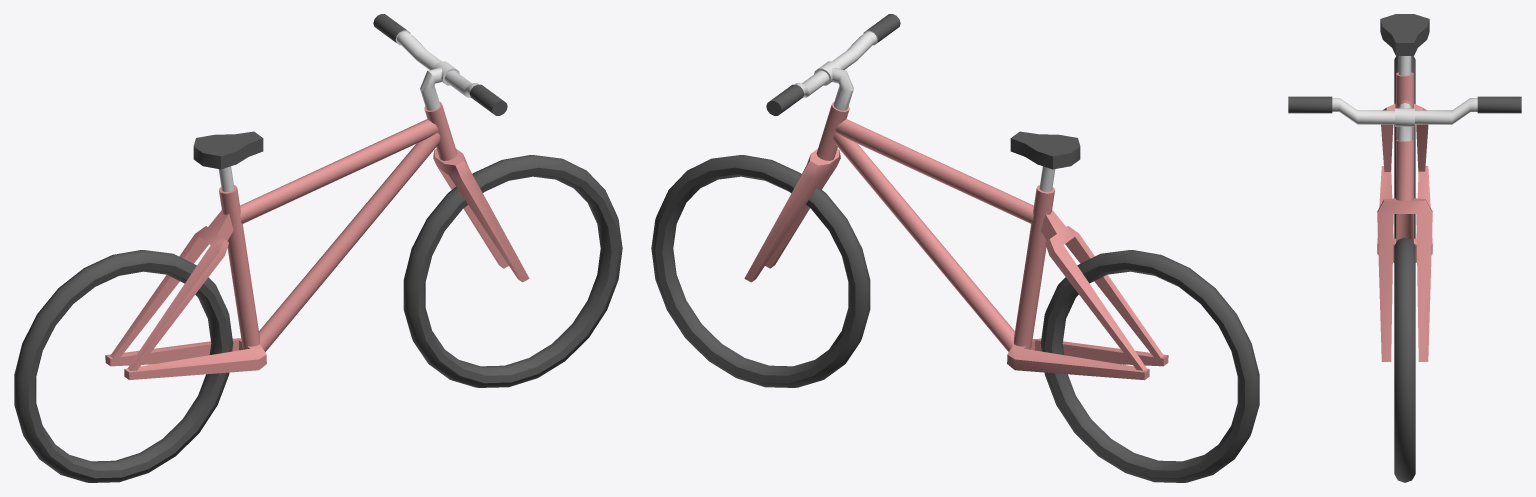
Rendered from bike.glb.
3 views of the same model, side by side, from view 1: azimuth 30°, elevation 25°; view 2: azimuth 150°, elevation 25°; view 3: azimuth 270°, elevation 25° (orthographic).
Visible parts, largest first — view 1: Torus, Torus_1, Cylinder_1, Cube_2, Cylinder_2, Cube_1, Cube, Cylinder, Cylinder_4, Cube_3, Cylinder_3; view 2: Torus, Torus_1, Cylinder_1, Cube_2, Cube_1, Cylinder_2, Cylinder, Cube, Cylinder_4, Cube_3, Cylinder_3; view 3: Torus, Cube, Cylinder_4, Cube_3, Cylinder_3, Cube_2, Cube_1, Cylinder, Torus_1, Cylinder_1.
Boxes of the visible parts, x1,y1,x2,y2 form: Torus: (403, 155, 622, 387); Torus_1: (14, 250, 233, 482); Cylinder_1: (259, 132, 440, 352); Cube_2: (110, 210, 233, 370); Cylinder_2: (240, 119, 438, 223); Cube_1: (105, 338, 266, 379); Cube: (433, 148, 529, 282); Cylinder: (218, 166, 259, 349); Cylinder_4: (373, 14, 507, 115); Cube_3: (193, 131, 263, 169); Cylinder_3: (420, 67, 457, 160); Torus: (651, 155, 870, 387); Torus_1: (1040, 250, 1259, 482); Cylinder_1: (833, 132, 1014, 352); Cube_2: (1041, 210, 1163, 370); Cube_1: (1007, 338, 1168, 380); Cylinder_2: (835, 119, 1033, 223); Cylinder: (1014, 166, 1055, 349); Cube: (744, 148, 840, 282); Cylinder_4: (766, 14, 900, 115); Cube_3: (1010, 131, 1080, 169); Cylinder_3: (816, 67, 853, 160); Torus: (1394, 237, 1415, 482); Cube: (1377, 198, 1432, 361); Cylinder_4: (1288, 96, 1521, 126); Cube_3: (1380, 14, 1429, 55); Cylinder_3: (1396, 103, 1413, 200); Cube_2: (1381, 102, 1428, 172); Cube_1: (1377, 166, 1432, 262); Cylinder: (1396, 56, 1413, 236); Torus_1: (1394, 56, 1415, 238); Cylinder_1: (1396, 214, 1413, 242).
Bounding box in the file's own units: 1126 × 614 × 383.
